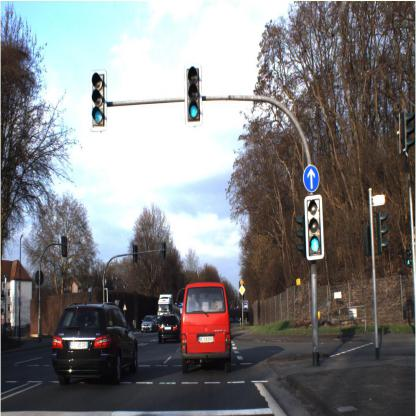mandatory: (301, 163, 321, 194)
other: (238, 282, 246, 298)
